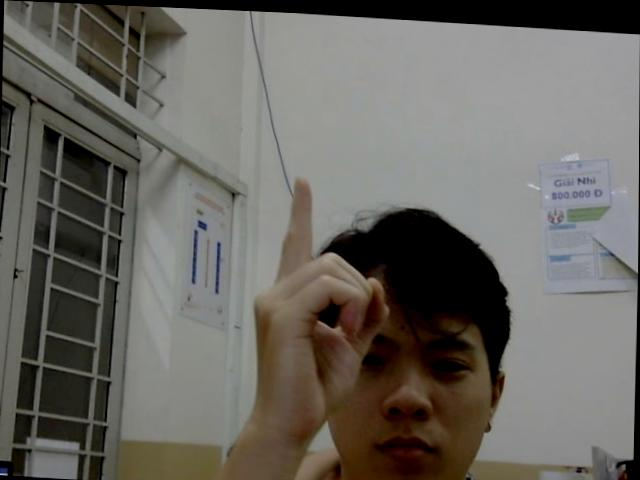D: (249, 167, 394, 436)
